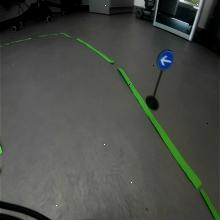left: (156, 49, 175, 70)
